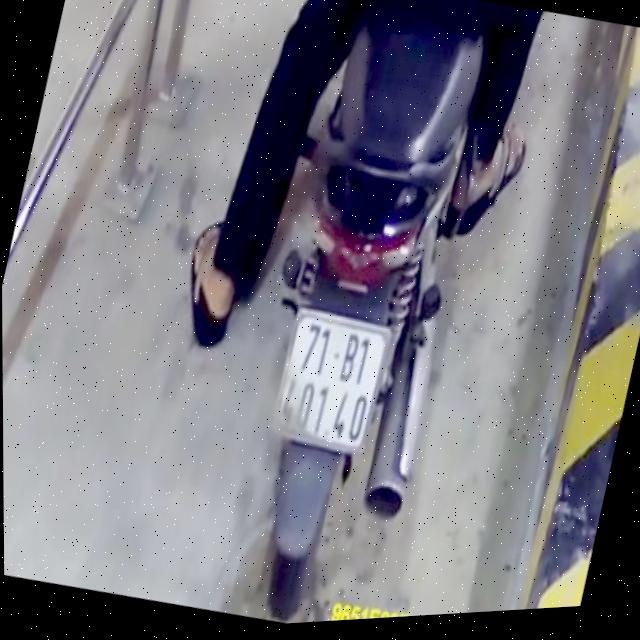motorcycle: (196, 0, 522, 628)
plate: (260, 295, 396, 460)
